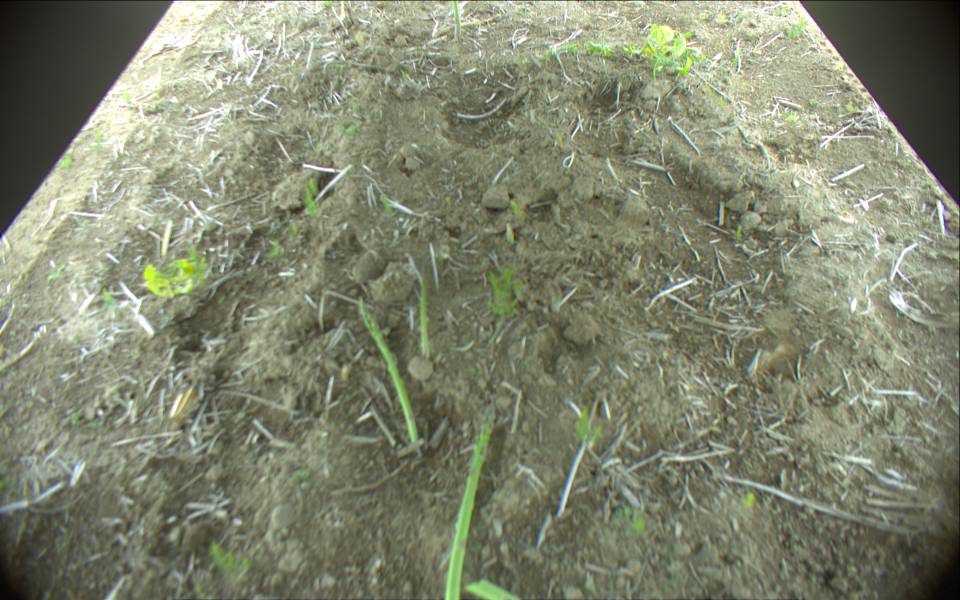aspa: (445, 401, 497, 600), (358, 298, 417, 445), (436, 14, 500, 35), (418, 274, 433, 361), (452, 1, 460, 39)
